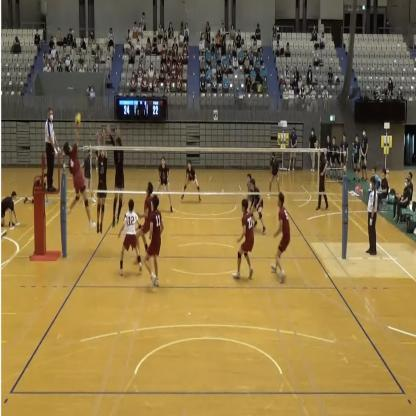spike: (63, 112, 97, 234)
